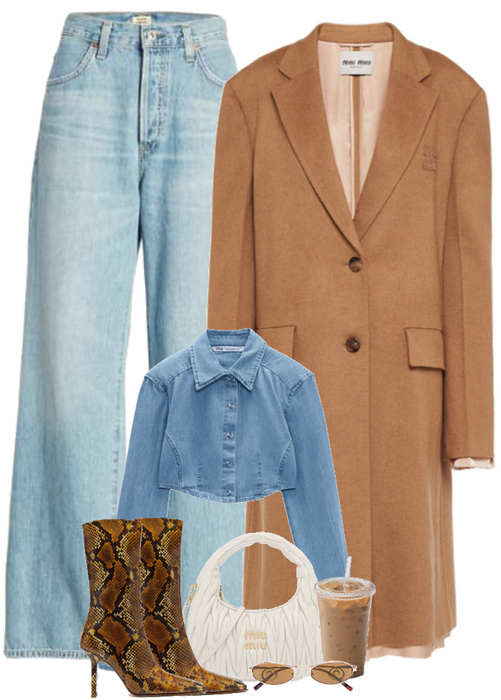аксесуары: (249, 659, 357, 693)
ботинки: (79, 516, 244, 697)
верхняя одежда: (337, 22, 496, 678), (209, 22, 501, 326)
джинсы: (0, 11, 209, 662)
рубашка: (121, 328, 332, 496)
сумка: (184, 532, 320, 682)
